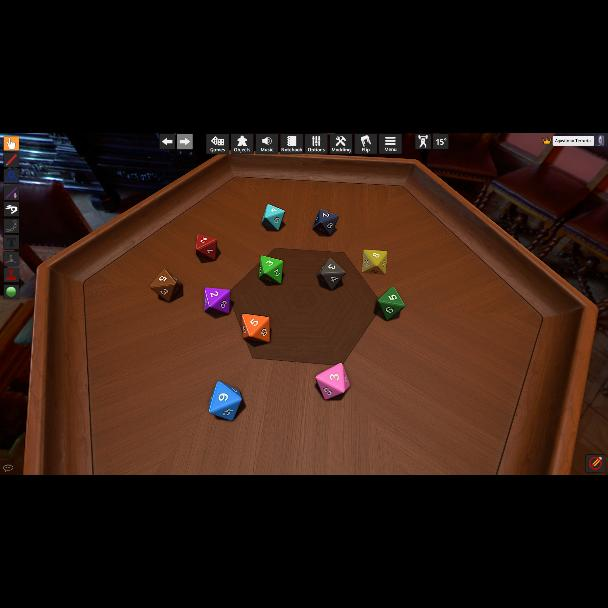d8: (209, 380, 243, 420), (315, 362, 349, 398), (150, 270, 180, 302), (318, 258, 345, 290), (377, 288, 404, 320), (242, 312, 270, 342), (258, 256, 284, 284), (203, 288, 228, 314), (313, 209, 337, 236), (262, 203, 286, 230), (362, 249, 386, 275), (194, 234, 214, 260)
